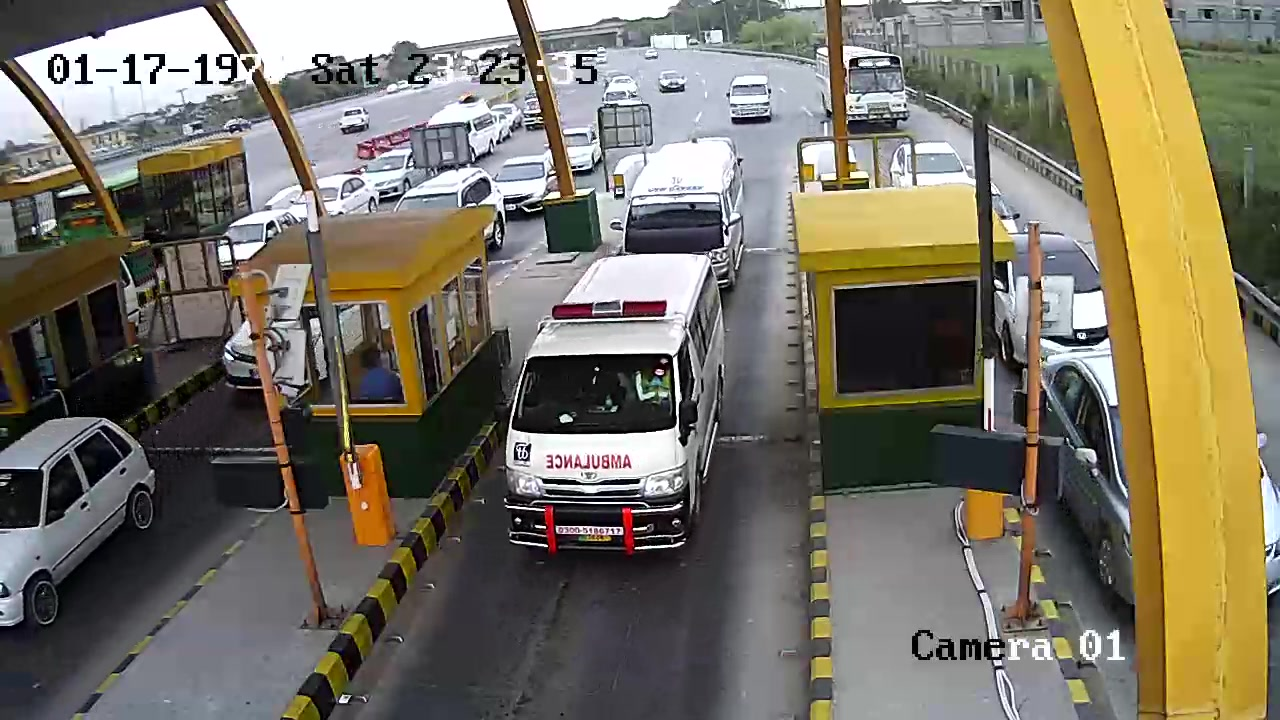F3: (510, 252, 725, 564)
